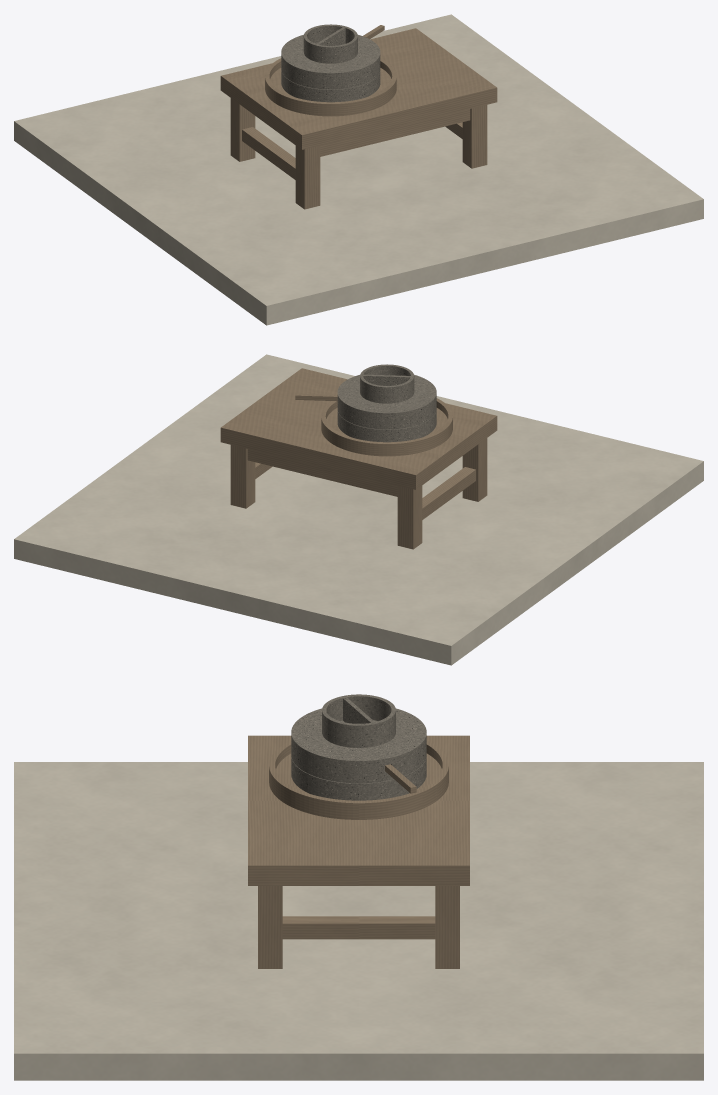
File: hand-mill-B.glb
3 views of the same model, one above another, from view 1: azimuth 30°, elevation 25°; view 2: azimuth 150°, elevation 25°; view 3: azimuth 270°, elevation 25° (orthographic). The views are drawn at different scales.
Parts seen in each view (by area): view 1: B_presentation_ground, B_wood_bed_C, B_upper_stone_C, B_stand_apron_C, B_collection_lip_C, B_feed_ring_C, B_stand_post_C, B_stand_post_C.002, B_lower_stone_C, B_collection_floor_C, B_stand_cross_tie_C, B_stand_post_C.001; view 2: B_presentation_ground, B_wood_bed_C, B_upper_stone_C, B_stand_apron_C.001, B_collection_lip_C, B_stand_post_C.001, B_feed_ring_C, B_stand_post_C.003, B_lower_stone_C, B_collection_floor_C, B_stand_cross_tie_C, B_stand_post_C; view 3: B_presentation_ground, B_wood_bed_C, B_upper_stone_C, B_stand_cross_tie_C.001, B_collection_lip_C, B_feed_ring_C, B_lower_stone_C, B_collection_floor_C, B_stand_post_C.002, B_stand_post_C.003.
Boxes of the visible parts, box(x1,y1,x2,y2) form: B_presentation_ground: box(14, 14, 703, 325); B_wood_bed_C: box(220, 28, 497, 149); B_upper_stone_C: box(281, 34, 380, 89); B_stand_apron_C: box(320, 109, 470, 156); B_collection_lip_C: box(265, 58, 396, 110); B_feed_ring_C: box(303, 24, 357, 63); B_stand_post_C: box(295, 145, 320, 209); B_stand_post_C.002: box(462, 105, 487, 168); B_lower_stone_C: box(281, 71, 380, 102); B_collection_floor_C: box(265, 68, 396, 116); B_stand_cross_tie_C: box(242, 127, 295, 179); B_stand_post_C.001: box(230, 98, 255, 161); B_presentation_ground: box(14, 354, 703, 665); B_wood_bed_C: box(220, 368, 497, 489); B_upper_stone_C: box(337, 374, 436, 429); B_stand_apron_C.001: box(247, 449, 397, 496); B_collection_lip_C: box(321, 398, 452, 450); B_stand_post_C.001: box(397, 485, 422, 549); B_feed_ring_C: box(360, 364, 414, 403); B_stand_post_C.003: box(230, 445, 255, 508); B_lower_stone_C: box(337, 411, 436, 442); B_collection_floor_C: box(321, 408, 452, 456); B_stand_cross_tie_C: box(422, 467, 475, 519); B_stand_post_C: box(462, 438, 487, 501); B_presentation_ground: box(14, 762, 703, 1080); B_wood_bed_C: box(248, 735, 469, 885); B_upper_stone_C: box(291, 708, 426, 783); B_stand_cross_tie_C.001: box(282, 916, 435, 939); B_collection_lip_C: box(269, 740, 448, 812); B_feed_ring_C: box(322, 694, 395, 747); B_lower_stone_C: box(291, 757, 426, 800); B_collection_floor_C: box(269, 753, 448, 819); B_stand_post_C.002: box(258, 886, 282, 968); B_stand_post_C.003: box(435, 886, 459, 968).
Bounding box in the file's own units: 2.8 × 0.922 × 2.8.
3 materials, 3 textured.
